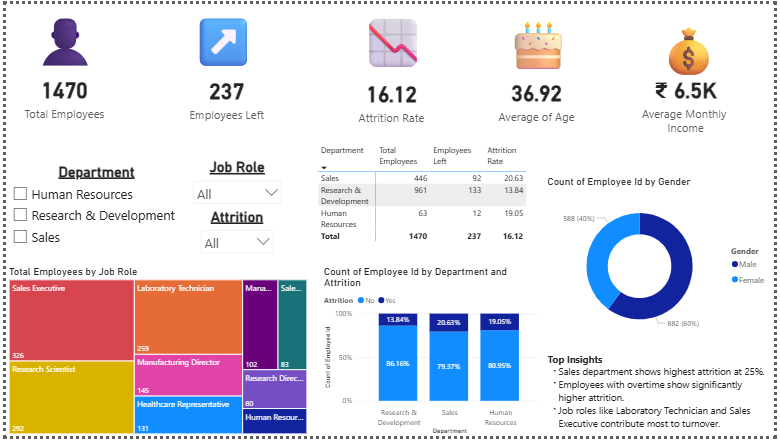

What the dashboard file says about the page in this screenshot:
{"tool":"powerbi","page":{"name":"01_Home_Overview","canvas":[1280,720],"ordinal":0},"visuals":[{"type":"card","fields":{"Values":["HR-Employee-Attrition.Total Employees"]},"box":[0,78,194,150],"z":0},{"type":"card","fields":{"Values":["HR-Employee-Attrition.Employees Left"]},"box":[282,80,170,150],"z":1000},{"type":"card","fields":{"Values":["Avg(HR-Employee-Attrition.Age)"]},"box":[794,82,178,150],"z":2000},{"type":"card","fields":{"Values":["HR-Employee-Attrition.Average Monthly Income"]},"box":[1038,58,190,190],"z":3000},{"type":"card","fields":{"Values":["HR-Employee-Attrition.Attrition Rate"]},"box":[564,84,154,150],"z":4000},{"type":"slicer","title":"Department","fields":{"Values":["HR-Employee-Attrition.Department"]},"box":[0,264,302,150],"z":5000},{"type":"slicer","title":"Job Role","fields":{"Values":["HR-Employee-Attrition.Job Role"]},"box":[302,258,166,102],"z":6000},{"type":"slicer","title":"Attrition","fields":{"Values":["HR-Employee-Attrition.Attrition"]},"box":[316,340,140,114],"z":7000},{"type":"donutChart","fields":{"Category":["HR-Employee-Attrition.Gender"],"Y":["CountNonNull(HR-Employee-Attrition.Employee Id)"]},"box":[898,286,382,284],"z":8000},{"type":"treemap","fields":{"Group":["HR-Employee-Attrition.Job Role"],"Values":["HR-Employee-Attrition.Total Employees"]},"box":[0,434,506,286],"z":9000},{"type":"hundredPercentStackedColumnChart","fields":{"Category":["HR-Employee-Attrition.Department"],"Series":["HR-Employee-Attrition.Attrition"],"Y":["CountNonNull(HR-Employee-Attrition.Employee Id)"]},"box":[526,434,372,286],"z":10000},{"type":"pivotTable","fields":{"Rows":["HR-Employee-Attrition.Department"],"Values":["HR-Employee-Attrition.Total Employees","HR-Employee-Attrition.Employees Left","HR-Employee-Attrition.Attrition Rate"]},"box":[516,228,382,186],"z":11000},{"type":"textbox","box":[898,574,382,146],"z":12000},{"type":"textbox","box":[32,0,132,126],"z":13000},{"type":"textbox","box":[302,0,130,126],"z":14000},{"type":"textbox","box":[584,2,112,126],"z":15000},{"type":"textbox","box":[828,4,112,126],"z":16000},{"type":"textbox","box":[1078,14,150,116],"z":17000}]}

Visuals, with their boxes in screenshot pixels (x1, y1, x2, y2), scaled from the page's 1280x720 canvas onto the 780x442 screenshot:
card - HR-Employee-Attrition.Total Employees: rect(0, 48, 118, 140)
card - HR-Employee-Attrition.Employees Left: rect(172, 49, 275, 141)
card - Avg(HR-Employee-Attrition.Age): rect(484, 50, 592, 142)
card - HR-Employee-Attrition.Average Monthly Income: rect(633, 36, 748, 152)
card - HR-Employee-Attrition.Attrition Rate: rect(344, 52, 438, 144)
"Department" slicer: rect(0, 162, 184, 254)
"Job Role" slicer: rect(184, 158, 285, 221)
"Attrition" slicer: rect(193, 209, 278, 279)
donutChart - HR-Employee-Attrition.Gender x CountNonNull(HR-Employee-Attrition.Employee Id): rect(547, 176, 779, 350)
treemap - HR-Employee-Attrition.Job Role x HR-Employee-Attrition.Total Employees: rect(0, 266, 308, 441)
hundredPercentStackedColumnChart - HR-Employee-Attrition.Department x HR-Employee-Attrition.Attrition: rect(321, 266, 547, 441)
pivotTable - HR-Employee-Attrition.Department x HR-Employee-Attrition.Total Employees: rect(314, 140, 547, 254)
textbox: rect(547, 352, 779, 441)
textbox: rect(20, 0, 100, 77)
textbox: rect(184, 0, 263, 77)
textbox: rect(356, 1, 424, 79)
textbox: rect(505, 2, 573, 80)
textbox: rect(657, 9, 748, 80)
